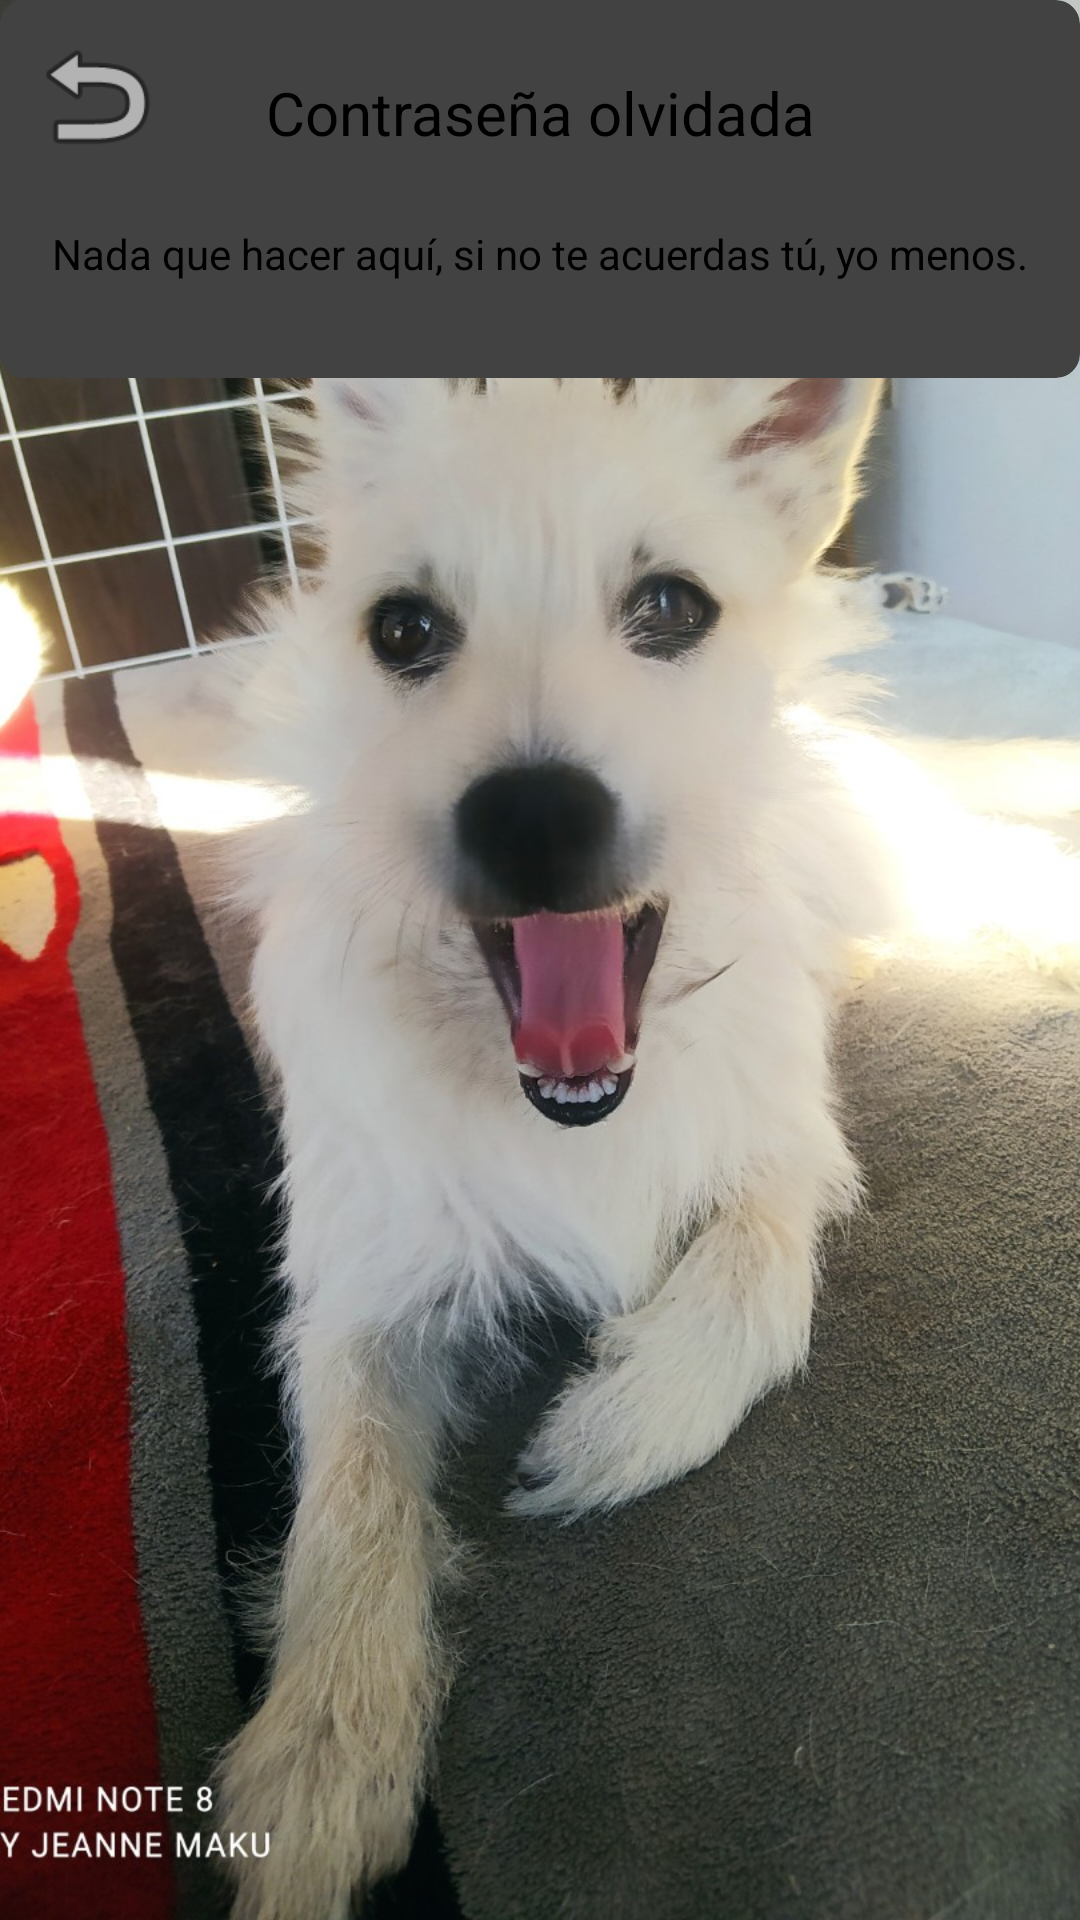

Point at icon controls on the screen. Image size 1080px x 1920px, points as (x=x, y=y).
revert: (x=97, y=97)
